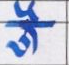ai_matra: (15, 0, 43, 20)
